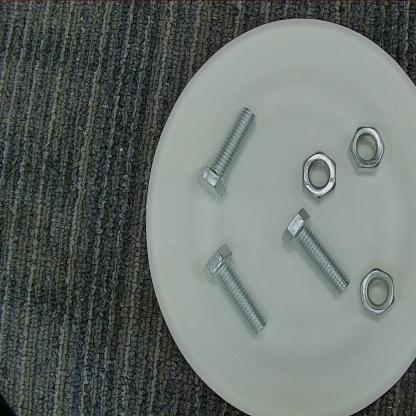FOD: (194, 233, 273, 348), (184, 97, 263, 205), (271, 202, 352, 300), (346, 122, 392, 183), (297, 145, 339, 209), (357, 262, 399, 323)
